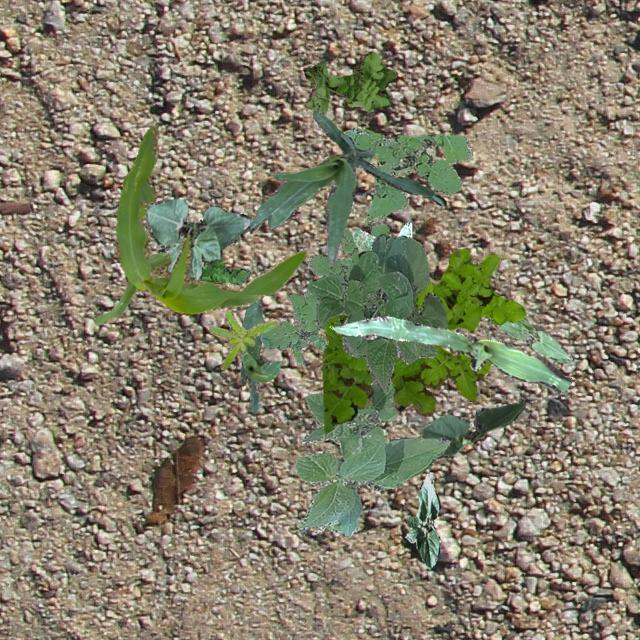crop: (92, 122, 304, 324), (248, 110, 444, 266), (294, 374, 448, 536), (306, 232, 446, 392), (332, 316, 570, 390), (144, 198, 252, 278), (420, 398, 524, 456), (236, 296, 282, 412), (494, 316, 570, 362), (404, 472, 440, 568)
weed: (322, 248, 524, 432), (258, 222, 388, 364), (344, 127, 472, 226), (303, 52, 397, 114), (208, 311, 278, 368), (158, 248, 250, 282), (352, 220, 411, 252)
